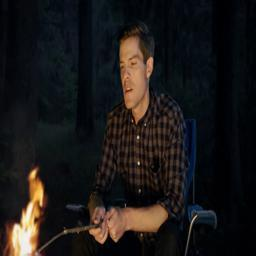fire: (5, 167, 44, 256)
